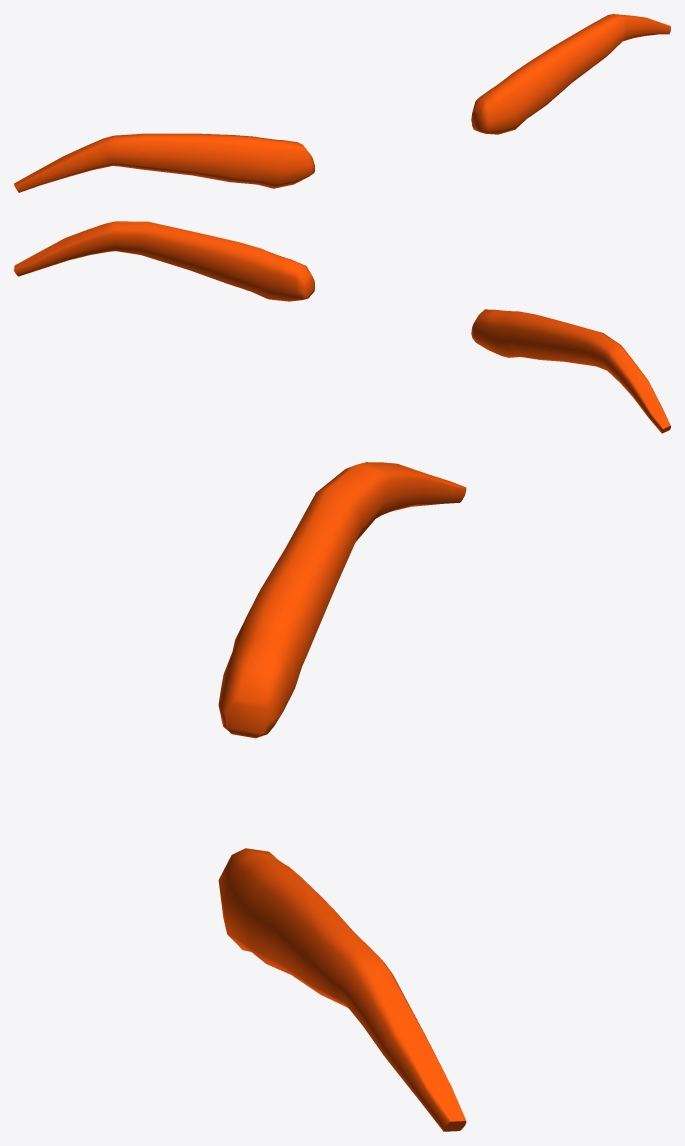
The model's file is Eyebrows_11_06.fbx.
3 views of the same model, one above another, from view 1: azimuth 30°, elevation 25°; view 2: azimuth 150°, elevation 25°; view 3: azimuth 270°, elevation 25° (orthographic). The views are drawn at different scales.
Parts seen in each view (by area): view 1: Eyebrows_11_06; view 2: Eyebrows_11_06; view 3: Eyebrows_11_06.
Part boxes in pixels (x1,y1,x2,y2): Eyebrows_11_06: (14, 14, 670, 192); Eyebrows_11_06: (14, 221, 670, 433); Eyebrows_11_06: (218, 462, 466, 1131).
Size of the model in its own units: 19.56 by 1.82 by 3.2.
